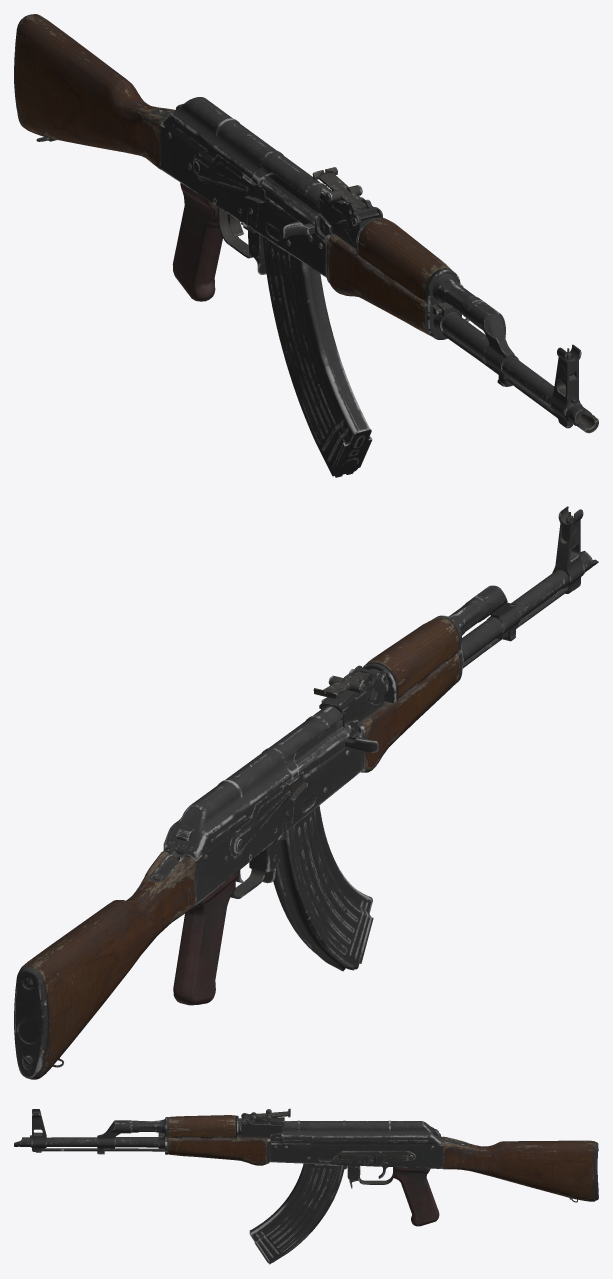
File: gun.glb
3 renders of one model, top to bottom at view 1: azimuth 30°, elevation 25°; view 2: azimuth 150°, elevation 25°; view 3: azimuth 270°, elevation 25°, orthographic. The views are drawn at different scales.
Parts seen in each view (by area): view 1: AK47_CS2; view 2: AK47_CS2; view 3: AK47_CS2.
Boxes of the visible parts, left/top/right/bottom form: AK47_CS2: left=14, top=14, right=598, bottom=477; AK47_CS2: left=14, top=506, right=598, bottom=1079; AK47_CS2: left=14, top=1108, right=598, bottom=1264.
Bounding box in the file's own units: 0.0714 × 0.2719 × 0.9471.
1 material, 1 textured.
